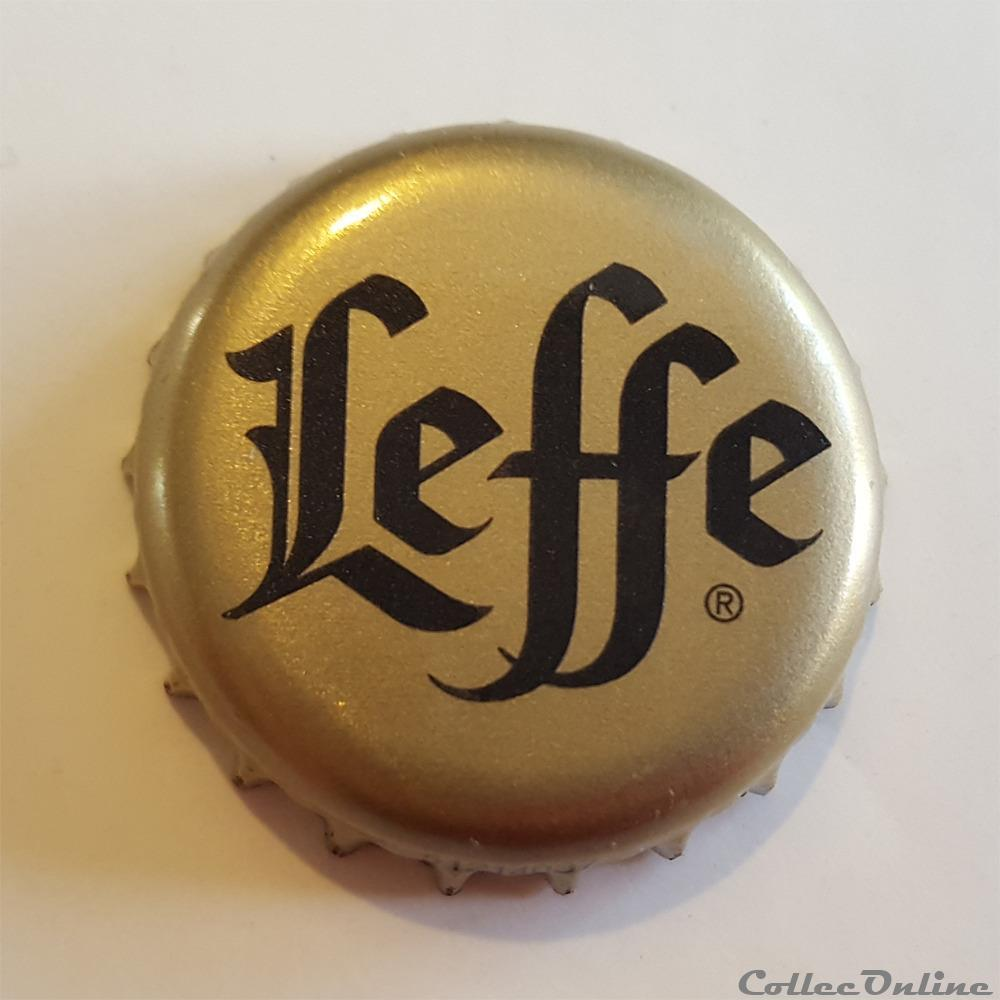leffe: (107, 104, 901, 918)
